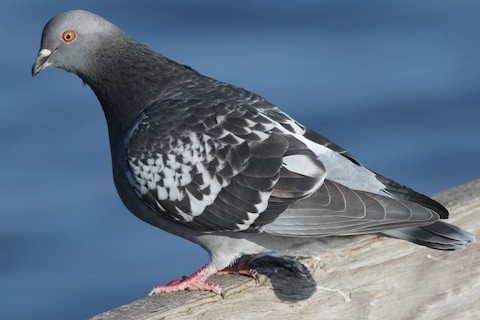pigeon: (24, 8, 467, 301)
